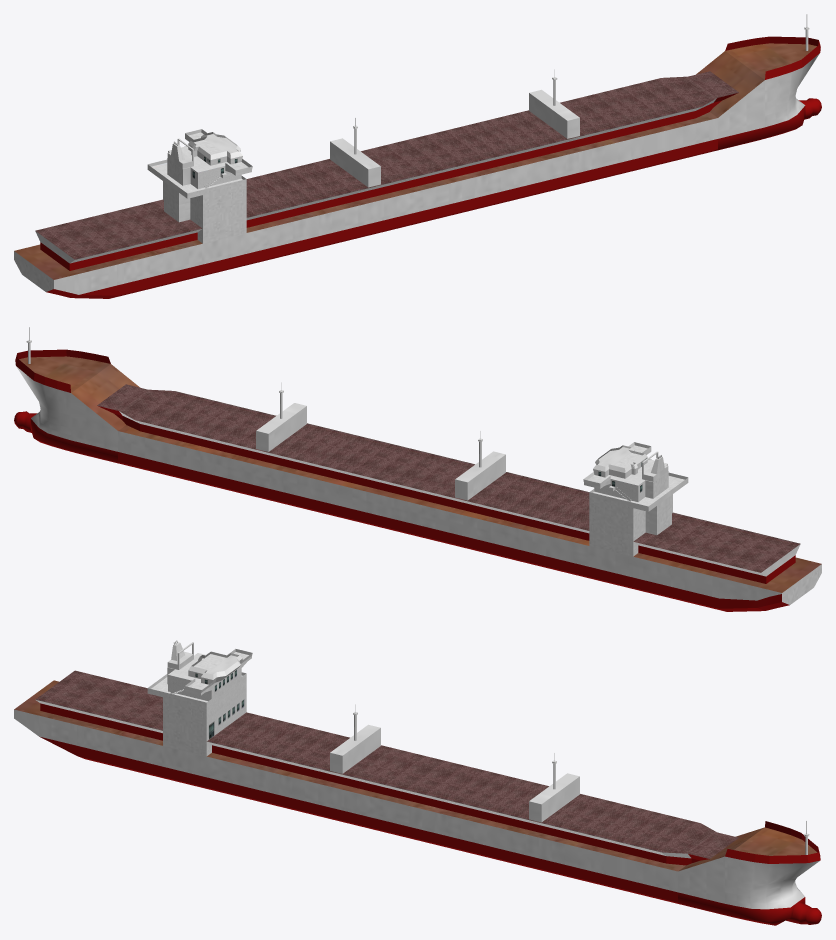
3 renders of one model, top to bottom at view 1: azimuth 30°, elevation 25°; view 2: azimuth 150°, elevation 25°; view 3: azimuth 330°, elevation 25°, orthographic.
Size of the model in its own units: 258 by 40.27 by 28.96.
Materials: 1 (1 with a texture image).
